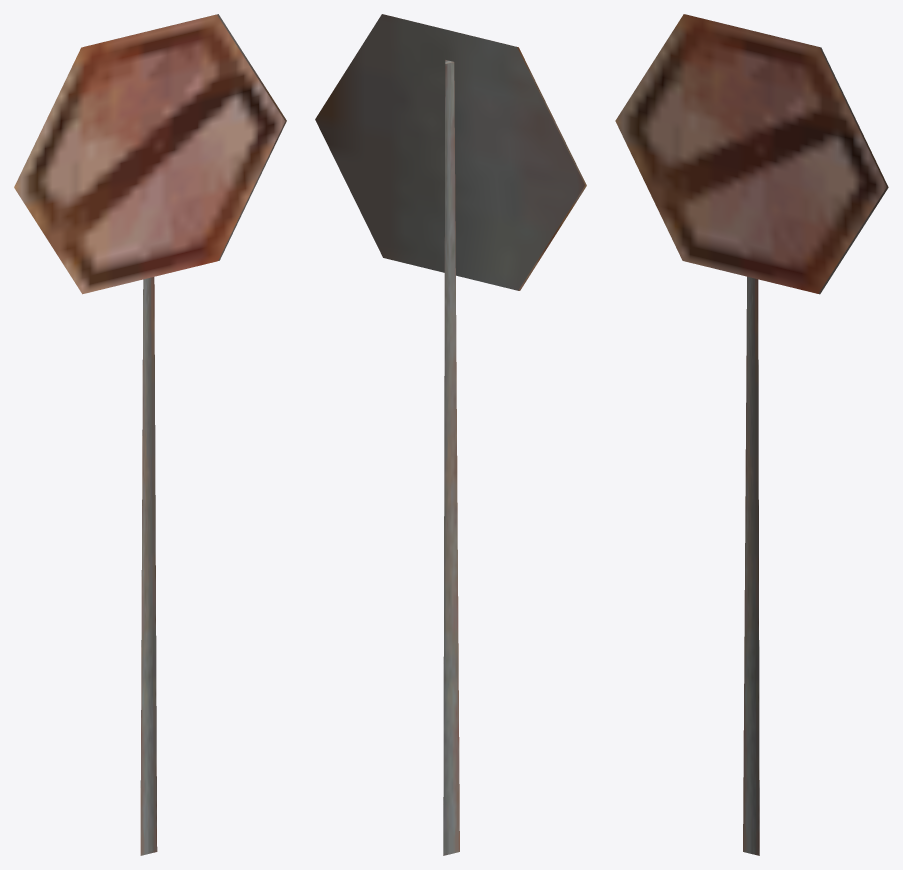
Rendered from Environment - Vegetation - Street Sign 02 - PMSign02.glb.
The picture shows the model from 3 angles, left to right: view 1: azimuth 30°, elevation 25°; view 2: azimuth 150°, elevation 25°; view 3: azimuth 330°, elevation 25°; orthographic projection.
Parts seen in each view (by area): view 1: PMSIGN02; view 2: PMSIGN02; view 3: PMSIGN02.
Boxes of the visible parts, x1,y1,x2,y2 form: PMSIGN02: [14, 14, 286, 855]; PMSIGN02: [315, 14, 586, 855]; PMSIGN02: [615, 14, 888, 855].
Size of the model in its own units: 6.97 by 20.07 by 0.4179.
1 material, 1 textured.
